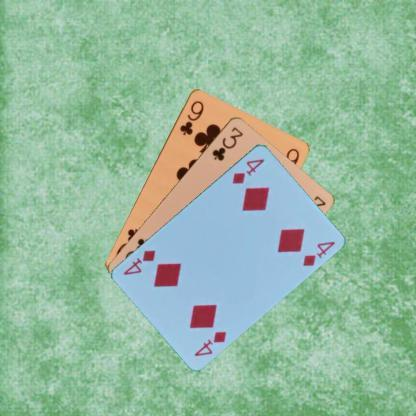3c: (209, 124, 244, 162)
4d: (230, 155, 266, 186), (192, 328, 228, 358)
9c: (176, 98, 206, 136)
